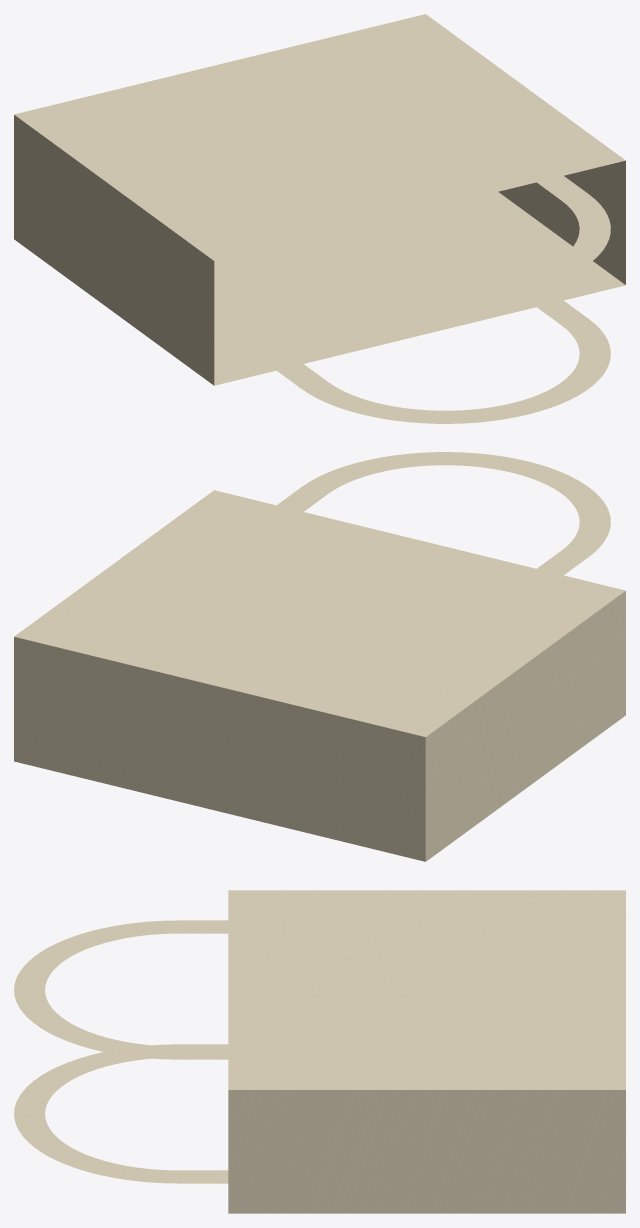
The model's file is bag_initial_half_depth.obj.
3 views of the same model, one above another, from view 1: azimuth 30°, elevation 25°; view 2: azimuth 150°, elevation 25°; view 3: azimuth 270°, elevation 25° (orthographic).
Bounding box in the file's own units: 0.38 × 0.11 × 0.4925.
1 material, 1 textured.
